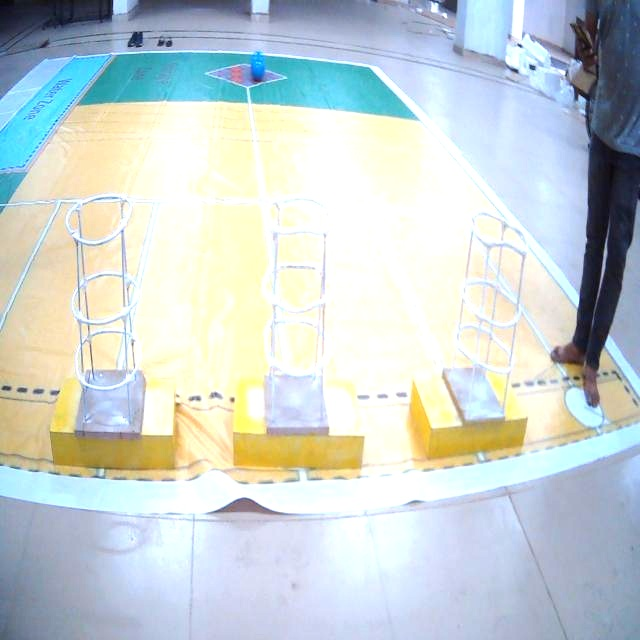silo: (439, 202, 526, 432), (67, 194, 146, 434), (263, 191, 336, 429)
